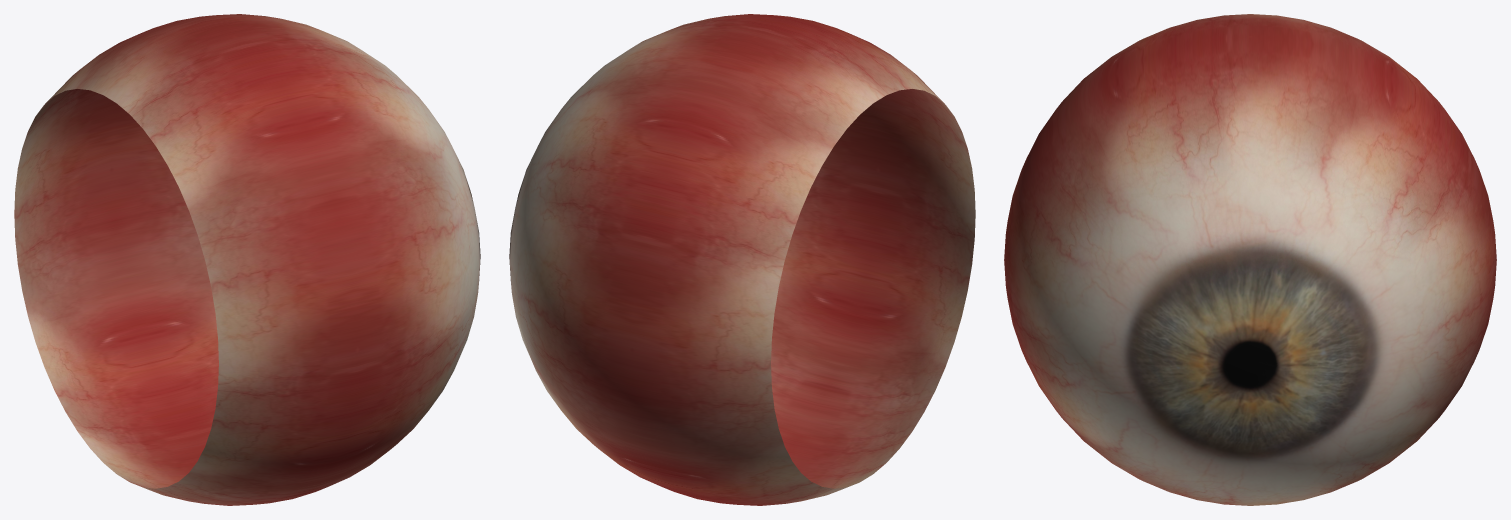
File: eyeball.fbx
The picture shows the model from 3 angles, left to right: view 1: azimuth 30°, elevation 25°; view 2: azimuth 150°, elevation 25°; view 3: azimuth 270°, elevation 25°; orthographic projection.
Visible parts, largest first — view 1: Round; view 2: Round; view 3: Round.
Part boxes in pixels (left/top/right/bottom): Round: left=14, top=14, right=480, bottom=505; Round: left=509, top=14, right=975, bottom=505; Round: left=1004, top=14, right=1496, bottom=505.
Bounding box in the file's own units: 342 × 440 × 440.
1 material, 1 textured.
